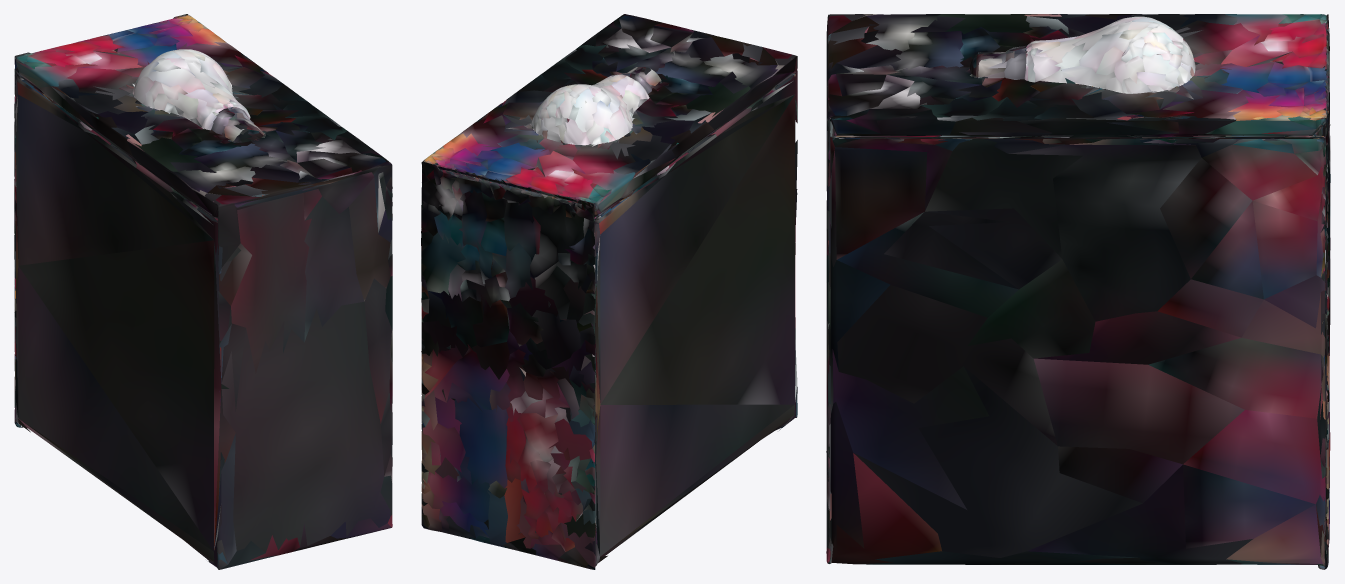
Rendered from BUL-HAV-LEDPLUS9WB22.glb.
3 views of the same model, side by side, from view 1: azimuth 30°, elevation 25°; view 2: azimuth 150°, elevation 25°; view 3: azimuth 270°, elevation 25° (orthographic). The views are drawn at different scales.
Parts seen in each view (by area): view 1: mesh_node; view 2: mesh_node; view 3: mesh_node.
Boxes of the visible parts, x1,y1,x2,y2 form: mesh_node: [14, 14, 392, 569]; mesh_node: [421, 14, 797, 569]; mesh_node: [826, 14, 1330, 569].
Bounding box in the file's own units: 0.0512 × 0.1129 × 0.1037.
Materials: 1 (1 with a texture image).
